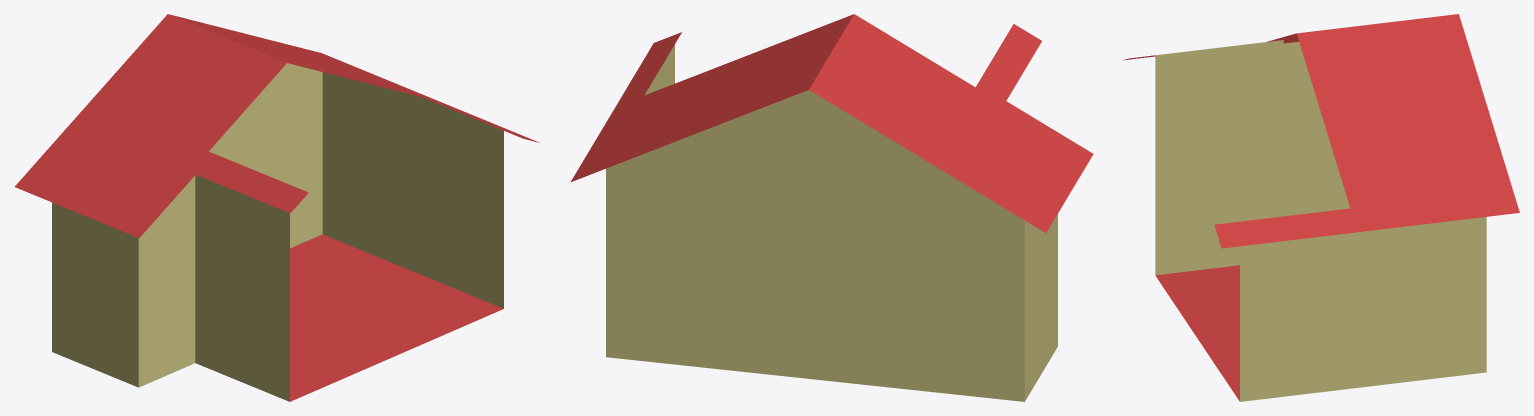
3 renders of one model, left to right at view 1: azimuth 30°, elevation 25°; view 2: azimuth 150°, elevation 25°; view 3: azimuth 270°, elevation 25°, orthographic. The views are drawn at different scales.
Size of the model in its own units: 14.37 by 11.11 by 8.47.
